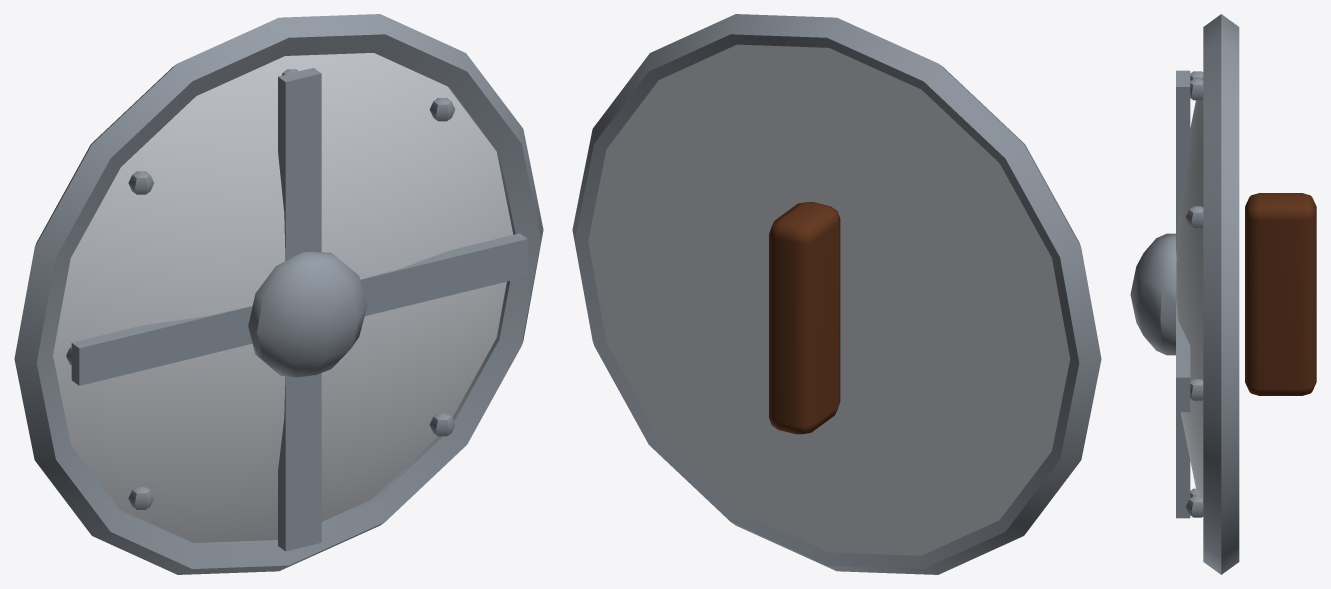
The model's file is IronShield.fbx.
3 renders of one model, left to right at view 1: azimuth 30°, elevation 25°; view 2: azimuth 150°, elevation 25°; view 3: azimuth 270°, elevation 25°, orthographic. The views are drawn at different scales.
Visible parts, largest first — view 1: IronShield; view 2: IronShield; view 3: IronShield.
Boxes of the visible parts, x1,y1,x2,y2 form: IronShield: (14,14,543,574); IronShield: (572,14,1101,574); IronShield: (1130,14,1316,574).
Bounding box in the file's own units: 2.36 × 2.36 × 0.782.
Materials: 1 (1 with a texture image).
